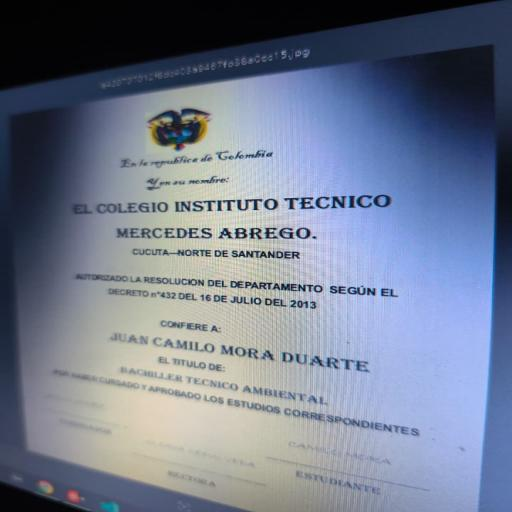diploma: (12, 47, 488, 512)
escudo: (140, 101, 213, 159)
institucion: (57, 184, 417, 251)
nombre: (73, 321, 391, 385)
